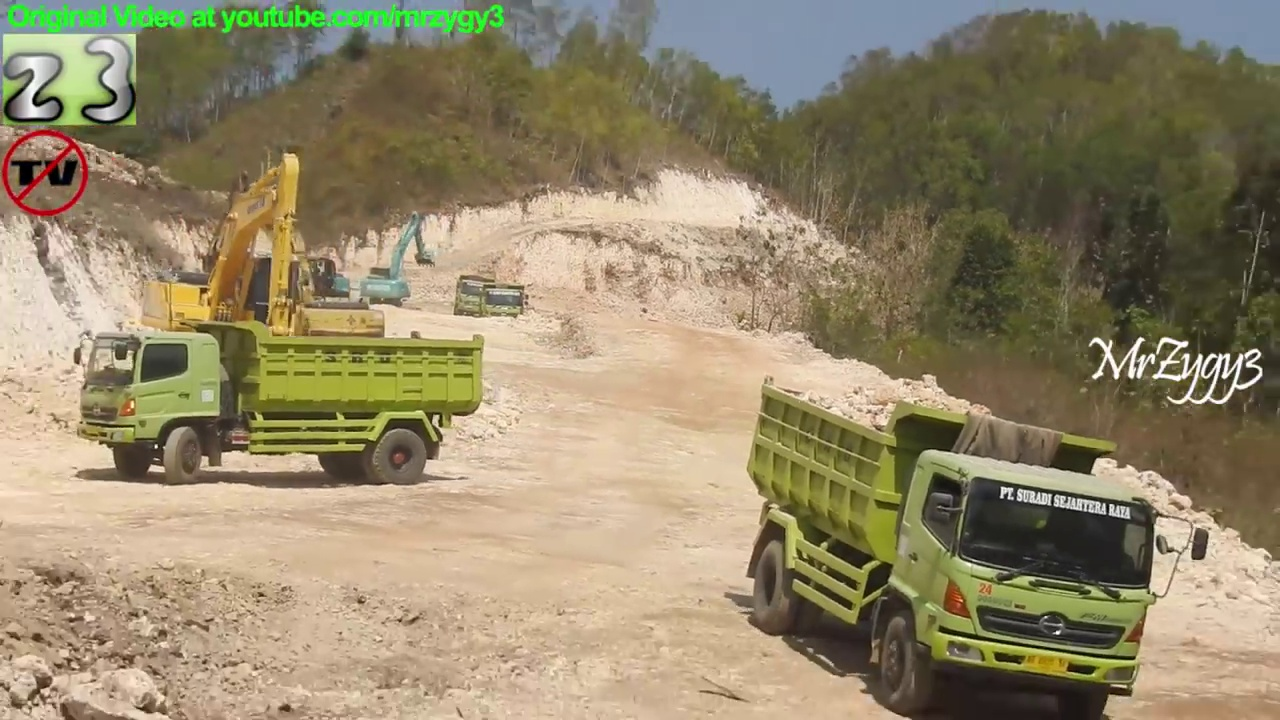excavator: (120, 145, 317, 396), (186, 165, 392, 376), (233, 186, 357, 323), (354, 207, 436, 312)
truck: (737, 372, 1215, 720), (69, 317, 486, 488), (453, 269, 499, 320), (482, 278, 530, 326)
